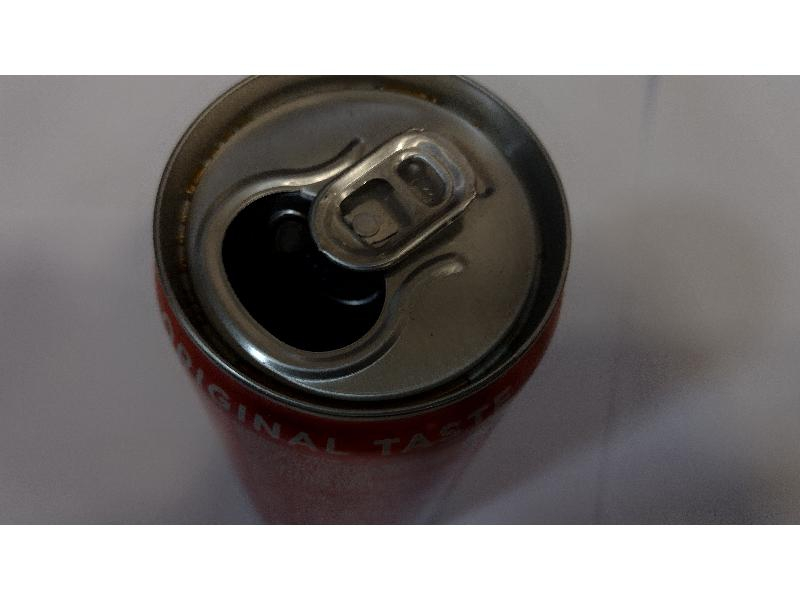can: (147, 77, 570, 519)
